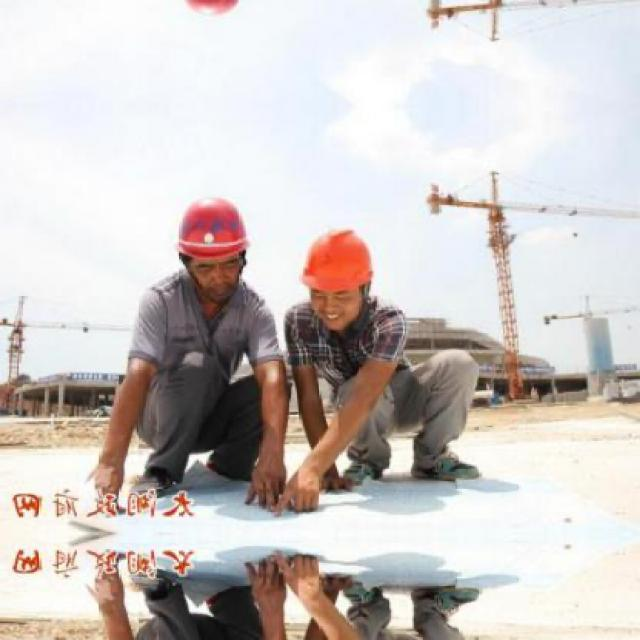helmet: (170, 184, 258, 306), (297, 219, 380, 333), (168, 0, 258, 31)
